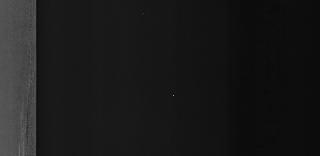silk spot: (9, 57, 31, 153)
